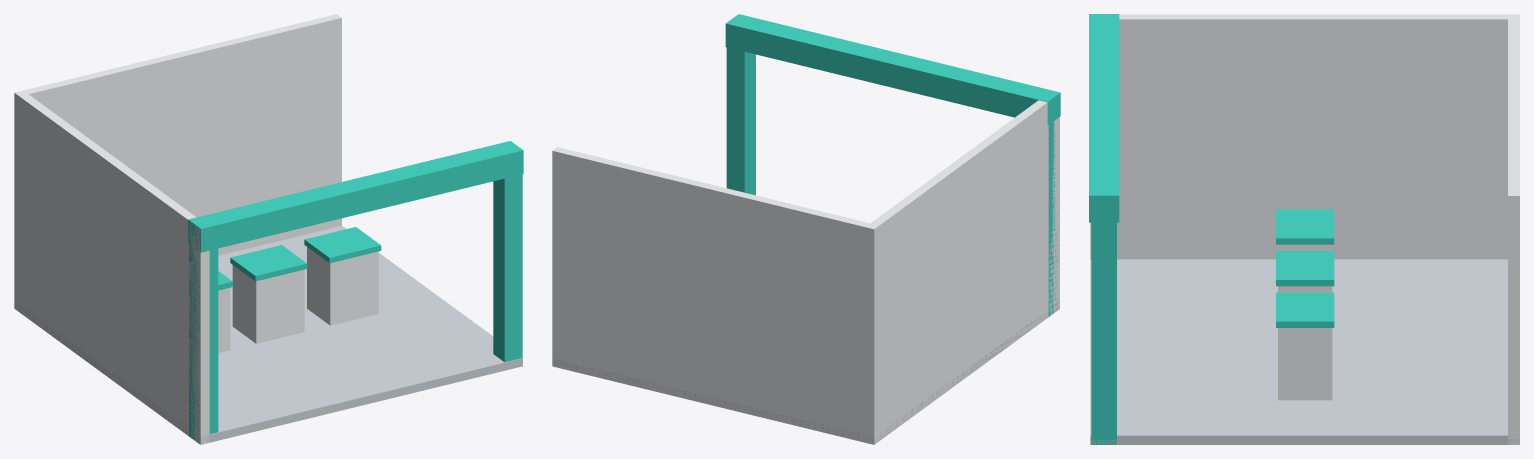
The picture shows the model from 3 angles, left to right: view 1: azimuth 30°, elevation 25°; view 2: azimuth 150°, elevation 25°; view 3: azimuth 270°, elevation 25°; orthographic projection. The views are drawn at different scales.
Parts seen in each view (by area): view 1: Exhibition Booth Concept; view 2: Exhibition Booth Concept; view 3: Exhibition Booth Concept.
Part boxes in pixels (box(x1,y1,x2,y2)): Exhibition Booth Concept: box(14, 14, 523, 444); Exhibition Booth Concept: box(552, 14, 1060, 444); Exhibition Booth Concept: box(1089, 14, 1519, 444).
Size of the model in its own units: 5 by 3.2 by 5.02.
